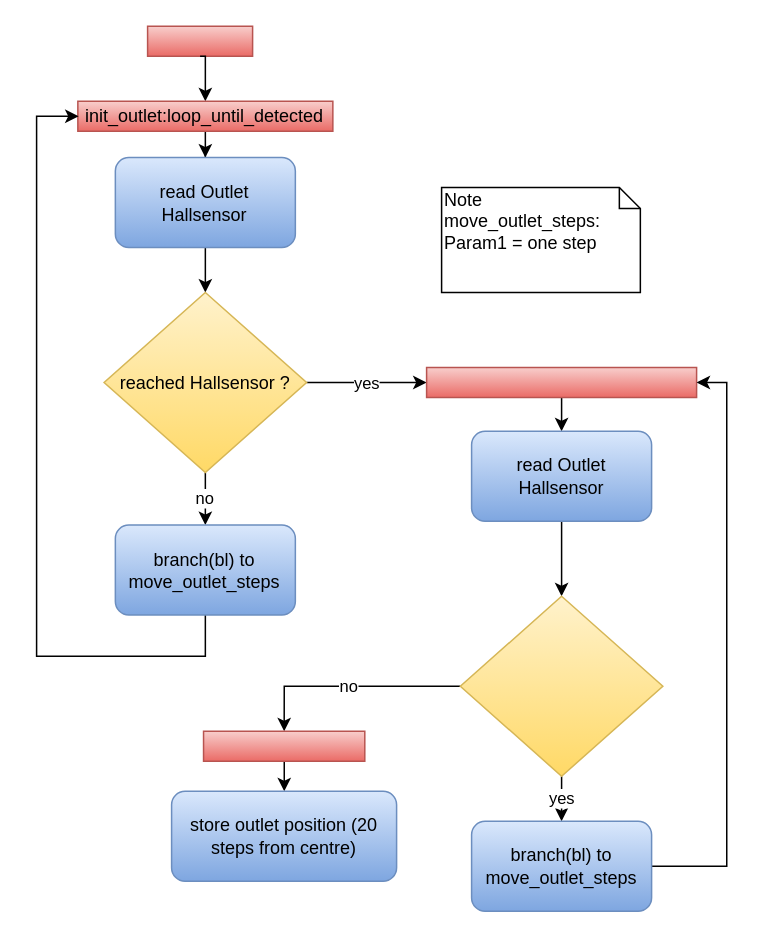
This 767x938 diagram has some shape labels left out. The centre of each missing label's shape, as x and y in pixels:
"init_outlet" belongs at (199,40).
"init_outlet_exit" belongs at (283,745).
"init_outlet_loop_while_detected" belongs at (561,382).
"reached Hallsensor?" belongs at (561,685).
